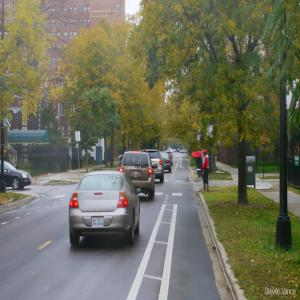Vehicle-registration-plate: (92, 218, 105, 229), (134, 171, 140, 176)
